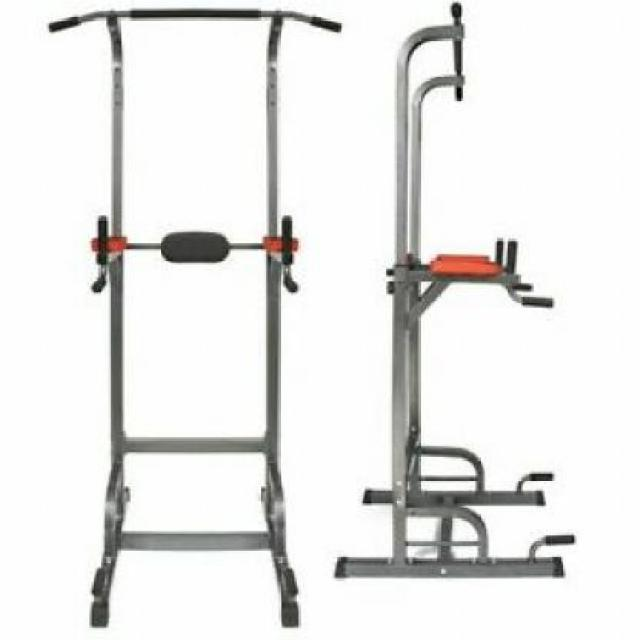chinning dipping: (48, 6, 342, 629)
